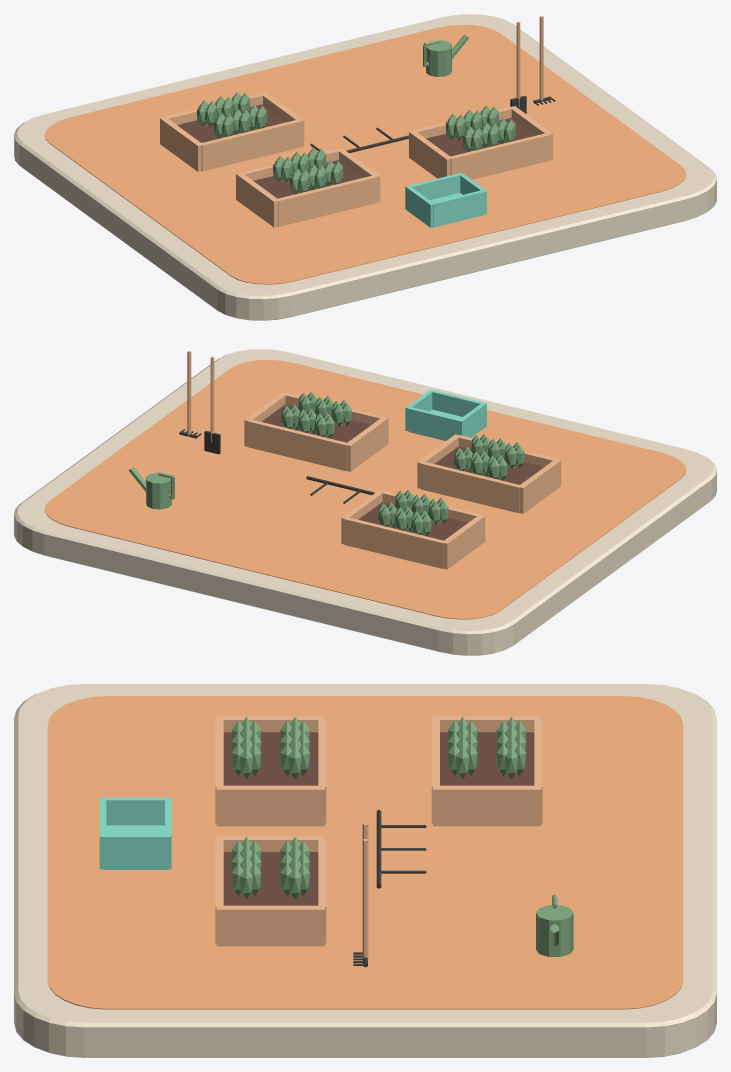
3 views of the same model, one above another, from view 1: azimuth 30°, elevation 25°; view 2: azimuth 150°, elevation 25°; view 3: azimuth 270°, elevation 25° (orthographic). The views are drawn at different scales.
Parts seen in each view (by area): view 1: COM-02 Floor Surface, COM-01 Rounded Base Direct, Border.010, Border.002, Border.006, Bin end, Border.008, Border, Border.004, Can, Bin end.001, Soil (+7 smaller); view 2: COM-02 Floor Surface, COM-01 Rounded Base Direct, Border.003, Border.011, Border.007, Border, Border.004, Border.008, Bin end.001, Bin end, Can, Soil.001 (+9 smaller); view 3: COM-02 Floor Surface, COM-01 Rounded Base Direct, Border.005, Border.001, Border.009, Soil.001, Soil, Soil.002, Bin side.001, Bin side, Can, Border (+10 smaller).
Part boxes in pixels (<box>): COM-02 Floor Surface: <box>44,25,686,284</box>; COM-01 Rounded Base Direct: <box>14,14,716,320</box>; Border.010: <box>201,119,300,171</box>; Border.002: <box>276,175,376,226</box>; Border.006: <box>448,133,549,179</box>; Bin end: <box>432,190,484,226</box>; Border.008: <box>160,117,203,171</box>; Border: <box>236,172,278,227</box>; Border.004: <box>409,130,452,178</box>; Can: <box>426,40,451,76</box>; Bin end.001: <box>409,173,460,200</box>; Soil: <box>253,160,362,198</box>; COM-02 Floor Surface: <box>44,360,686,619</box>; COM-01 Rounded Base Direct: <box>14,349,716,655</box>; Border.003: <box>420,461,521,513</box>; Border.011: <box>344,517,443,568</box>; Border.007: <box>247,420,347,471</box>; Border: <box>518,459,561,513</box>; Border.004: <box>346,417,388,471</box>; Border.008: <box>442,515,485,569</box>; Bin end.001: <box>408,407,460,440</box>; Bin end: <box>431,390,483,416</box>; Can: <box>146,472,171,509</box>; Soil.001: <box>261,404,370,442</box>; COM-02 Floor Surface: <box>47,696,683,1009</box>; COM-01 Rounded Base Direct: <box>14,684,716,1057</box>; Border.005: <box>216,905,324,946</box>; Border.001: <box>216,785,324,826</box>; Border.009: <box>433,785,541,826</box>; Soil.001: <box>223,852,318,905</box>; Soil: <box>223,732,318,785</box>; Soil.002: <box>440,732,534,785</box>; Bin side.001: <box>100,834,171,869</box>; Bin side: <box>100,797,171,825</box>; Can: <box>536,905,573,956</box>; Border: <box>216,716,324,732</box>.
Size of the model in its own units: 6 by 1.4 by 5.2.
1 material, 1 textured.
